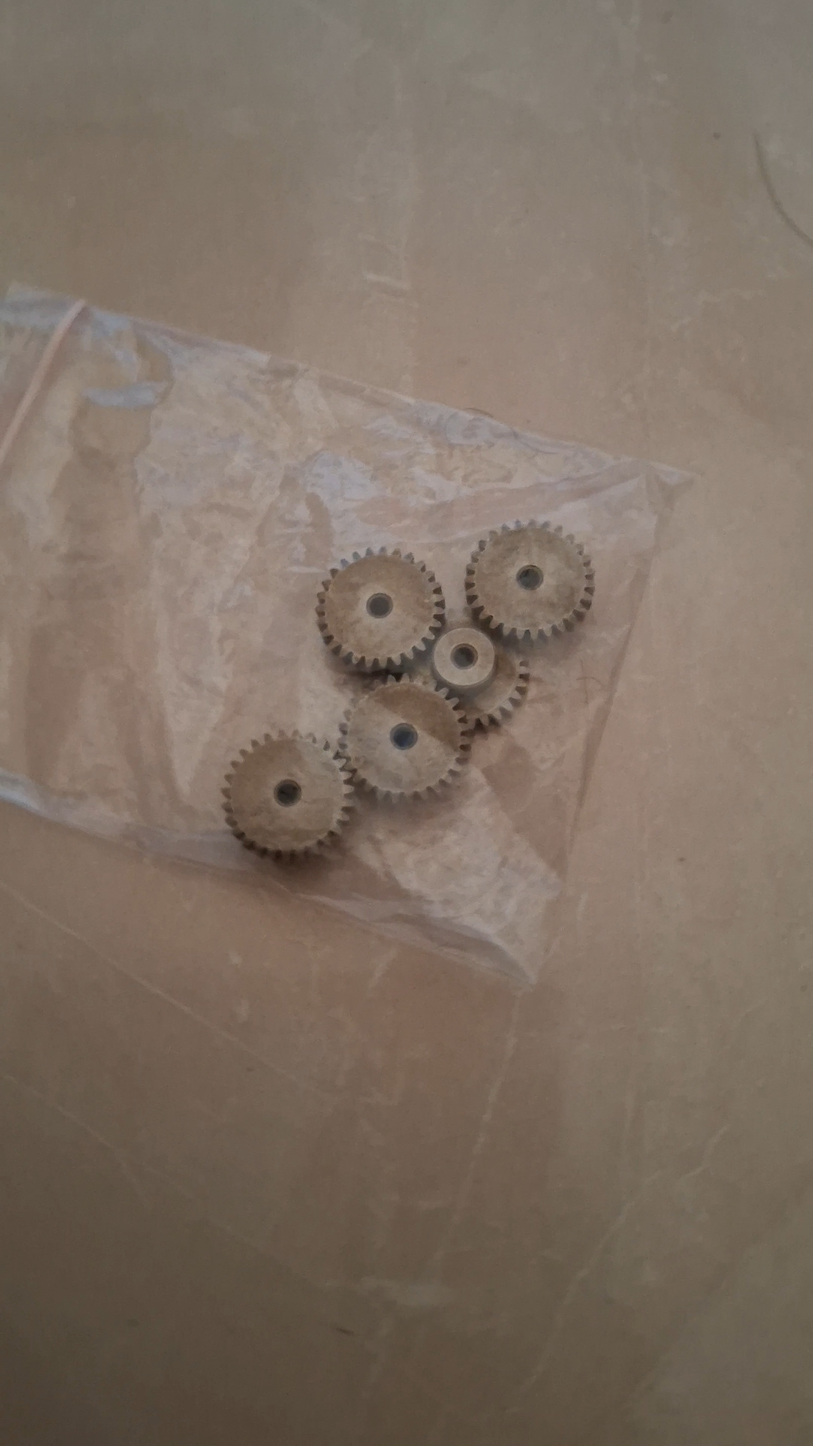spur gear: (222, 732, 352, 859), (316, 547, 445, 671), (341, 677, 471, 799), (465, 521, 594, 642), (431, 625, 530, 730)
